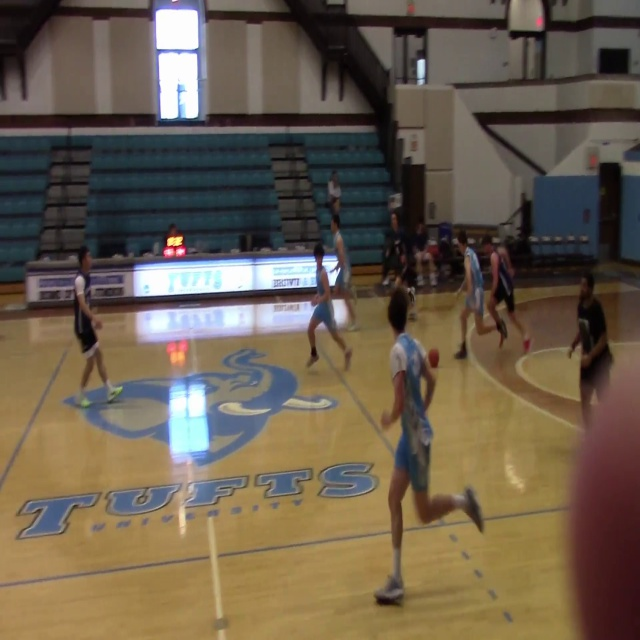Basketball: (427, 348, 439, 367)
